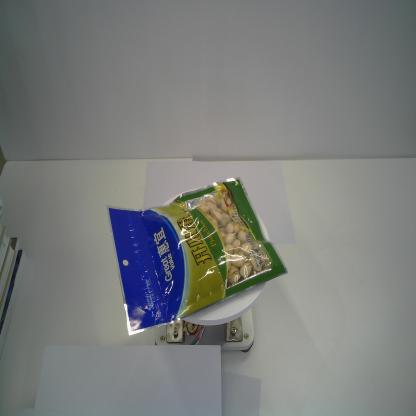Dried Fruit: (106, 173, 289, 338)
